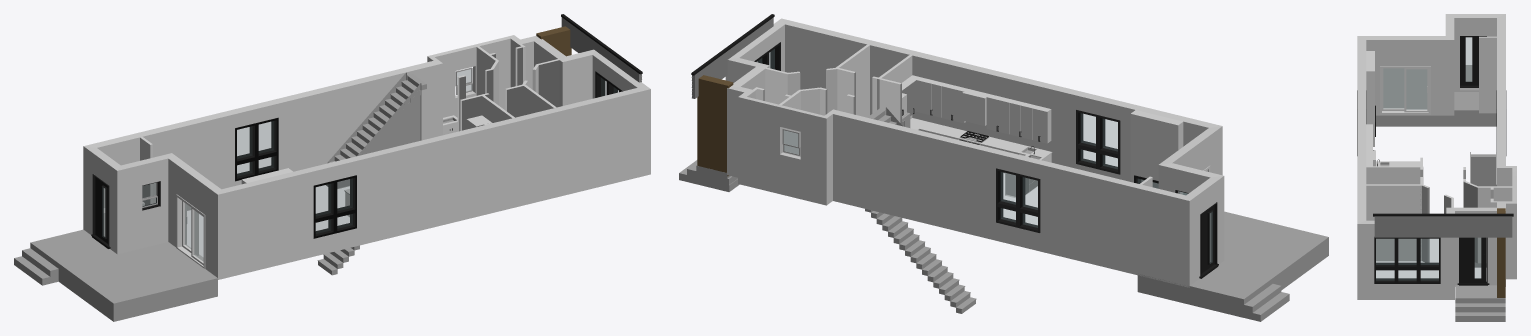
The model's file is eastridge-4.gltf.
The picture shows the model from 3 angles, left to right: view 1: azimuth 30°, elevation 25°; view 2: azimuth 150°, elevation 25°; view 3: azimuth 270°, elevation 25°; orthographic projection. The views are drawn at different scales.
Visible parts, largest first — view 1: pCube250:PIV, back_deck, pCube130, pCube219, pCube221, pCube222:PIV, pCube223:PIV, pCube125, pCube227:PIV, pCube60:PIV, pCube239:PIV, pCube107 (+10 smaller); view 2: pCube250:PIV, back_deck, pCube256:PIV, pCube107, pCube219, pCube221, pCube223:PIV, pCube222:PIV, pCube53:PIV, pCube195:PIV, pCube125, pCube51:PIV (+11 smaller); view 3: pCube250:PIV, back_deck, pCube125, pCube53:PIV, main_window, pCube45:PIV, pCube54:PIV, pCube106:PIV, pCube242:PIV, pCube243:PIV, pCube105, pCube64:PIV (+18 smaller).
Part boxes in pixels (x1=…): pCube250:PIV: x1=83, y1=35, x2=650, y2=279; back_deck: x1=30, y1=229, x2=217, y2=321; pCube130: x1=337, y1=83, x2=421, y2=188; pCube219: x1=313, y1=175, x2=356, y2=238; pCube221: x1=235, y1=117, x2=278, y2=181; pCube222:PIV: x1=316, y1=178, x2=352, y2=233; pCube223:PIV: x1=237, y1=121, x2=273, y2=176; pCube125: x1=561, y1=17, x2=641, y2=82; pCube227:PIV: x1=93, y1=175, x2=108, y2=245; pCube60:PIV: x1=537, y1=59, x2=559, y2=107; pCube239:PIV: x1=176, y1=194, x2=205, y2=268; pCube107: x1=536, y1=26, x2=571, y2=56; pCube250:PIV: x1=725, y1=18, x2=1224, y2=287; back_deck: x1=1137, y1=211, x2=1328, y2=317; pCube256:PIV: x1=1130, y1=110, x2=1183, y2=194; pCube107: x1=697, y1=75, x2=733, y2=176; pCube219: x1=1076, y1=110, x2=1120, y2=174; pCube221: x1=996, y1=168, x2=1040, y2=232; pCube223:PIV: x1=1001, y1=172, x2=1037, y2=227; pCube222:PIV: x1=1081, y1=113, x2=1117, y2=168; pCube53:PIV: x1=835, y1=44, x2=869, y2=117; pCube195:PIV: x1=919, y1=122, x2=1052, y2=160; pCube125: x1=691, y1=17, x2=773, y2=98; pCube51:PIV: x1=872, y1=76, x2=901, y2=124; pCube250:PIV: x1=1357, y1=14, x2=1516, y2=299; back_deck: x1=1376, y1=65, x2=1496, y2=126; pCube125: x1=1374, y1=216, x2=1512, y2=237; pCube53:PIV: x1=1366, y1=184, x2=1423, y2=261; main_window: x1=1374, y1=237, x2=1440, y2=283; pCube45:PIV: x1=1479, y1=36, x2=1496, y2=113; pCube54:PIV: x1=1366, y1=166, x2=1423, y2=184; pCube106:PIV: x1=1460, y1=237, x2=1486, y2=283; pCube242:PIV: x1=1406, y1=69, x2=1426, y2=109; pCube243:PIV: x1=1383, y1=68, x2=1403, y2=108; pCube105: x1=1455, y1=285, x2=1505, y2=303; pCube64:PIV: x1=1478, y1=186, x2=1512, y2=263.
Size of the model in its own units: 15.36 by 4.67 by 4.19.
